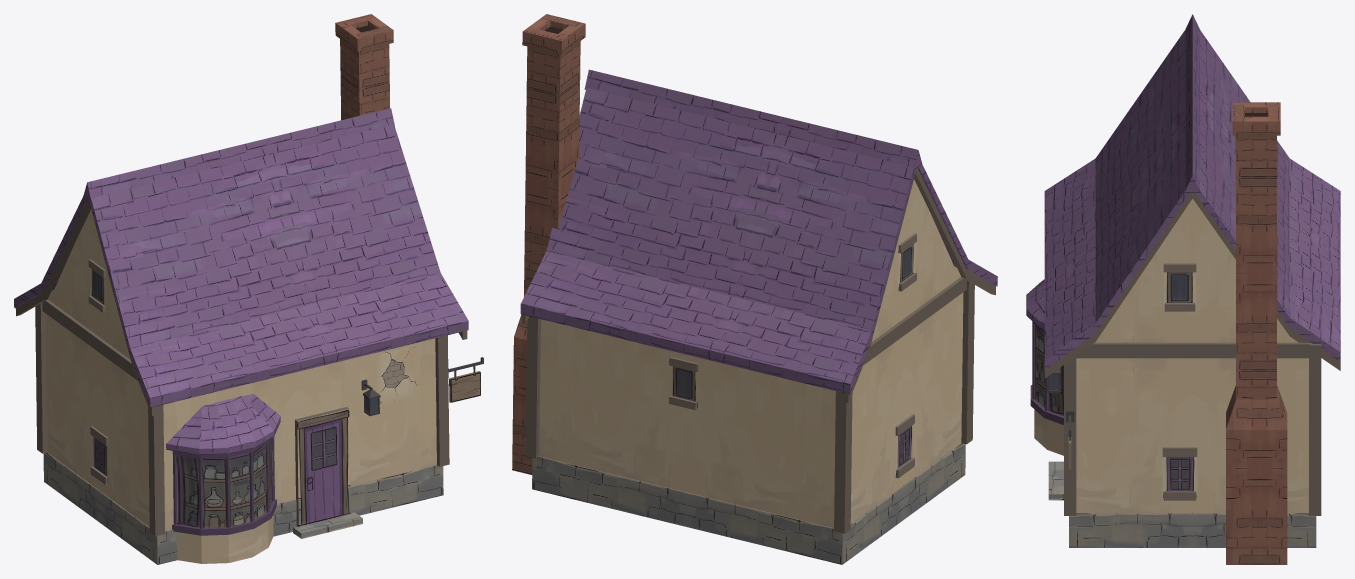
The model's file is apothecary.glb.
The picture shows the model from 3 angles, left to right: view 1: azimuth 30°, elevation 25°; view 2: azimuth 150°, elevation 25°; view 3: azimuth 270°, elevation 25°; orthographic projection. The views are drawn at different scales.
Visible parts, largest first — view 1: roof, body, glass; view 2: body, roof, glass; view 3: body, roof, glass.
Part boxes in pixels (box(x1,y1,x2,y2)): roof: box(14, 108, 468, 454); body: box(15, 14, 483, 564); glass: box(90, 268, 378, 527); body: box(512, 14, 995, 564); roof: box(520, 69, 997, 394); glass: box(669, 243, 915, 477); body: box(1030, 102, 1340, 564); roof: box(1026, 14, 1340, 369); glass: box(1035, 272, 1197, 498).
Size of the model in its own units: 8.49 by 9.5 by 6.16.
20 materials, 13 textured.
